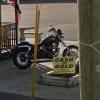Motorcycle: (7, 23, 78, 69)
